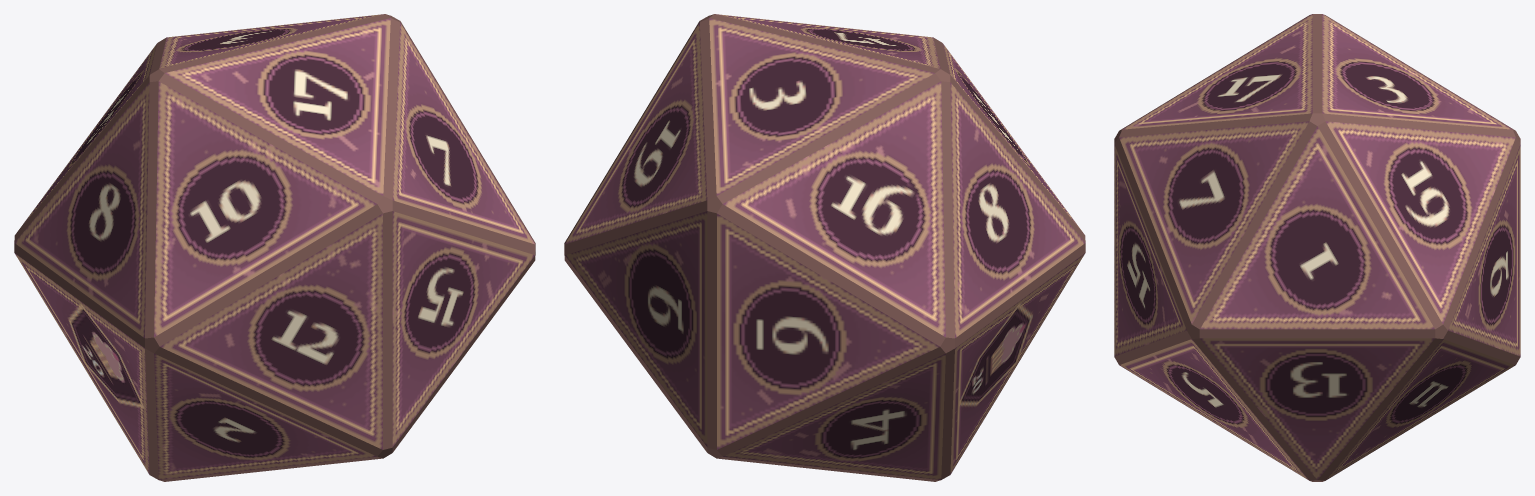
3 renders of one model, left to right at view 1: azimuth 30°, elevation 25°; view 2: azimuth 150°, elevation 25°; view 3: azimuth 270°, elevation 25°, orthographic. The views are drawn at different scales.
Size of the model in its own units: 160 by 160 by 160.
1 material, 1 textured.
